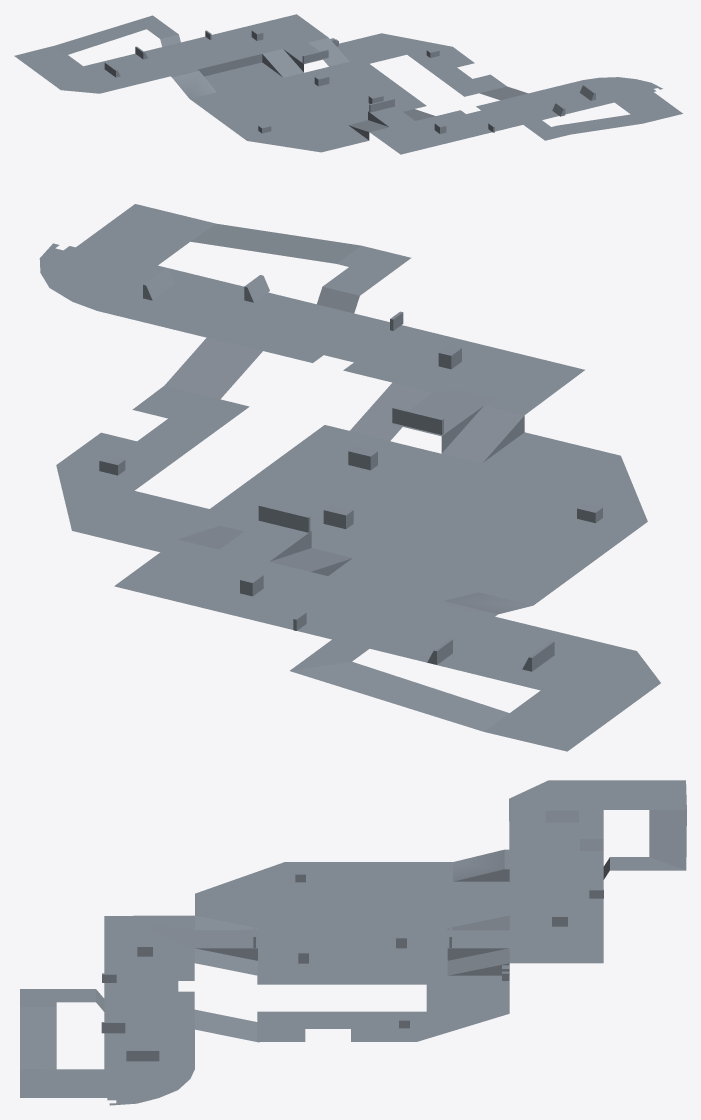
File: gltf__Models__map__Village__byway__byway_mergedCollision.glb
3 renders of one model, top to bottom at view 1: azimuth 30°, elevation 25°; view 2: azimuth 150°, elevation 25°; view 3: azimuth 270°, elevation 25°, orthographic. The views are drawn at different scales.
Visible parts, largest first — view 1: byway_mergedCollision; view 2: byway_mergedCollision; view 3: byway_mergedCollision.
Part boxes in pixels (x1,y1,x2,y2): byway_mergedCollision: (14,14,682,154); byway_mergedCollision: (39,204,660,751); byway_mergedCollision: (20,780,686,1105).
Bounding box in the file's own units: 83.41 × 8.35 × 72.97.
1 material, 1 textured.
